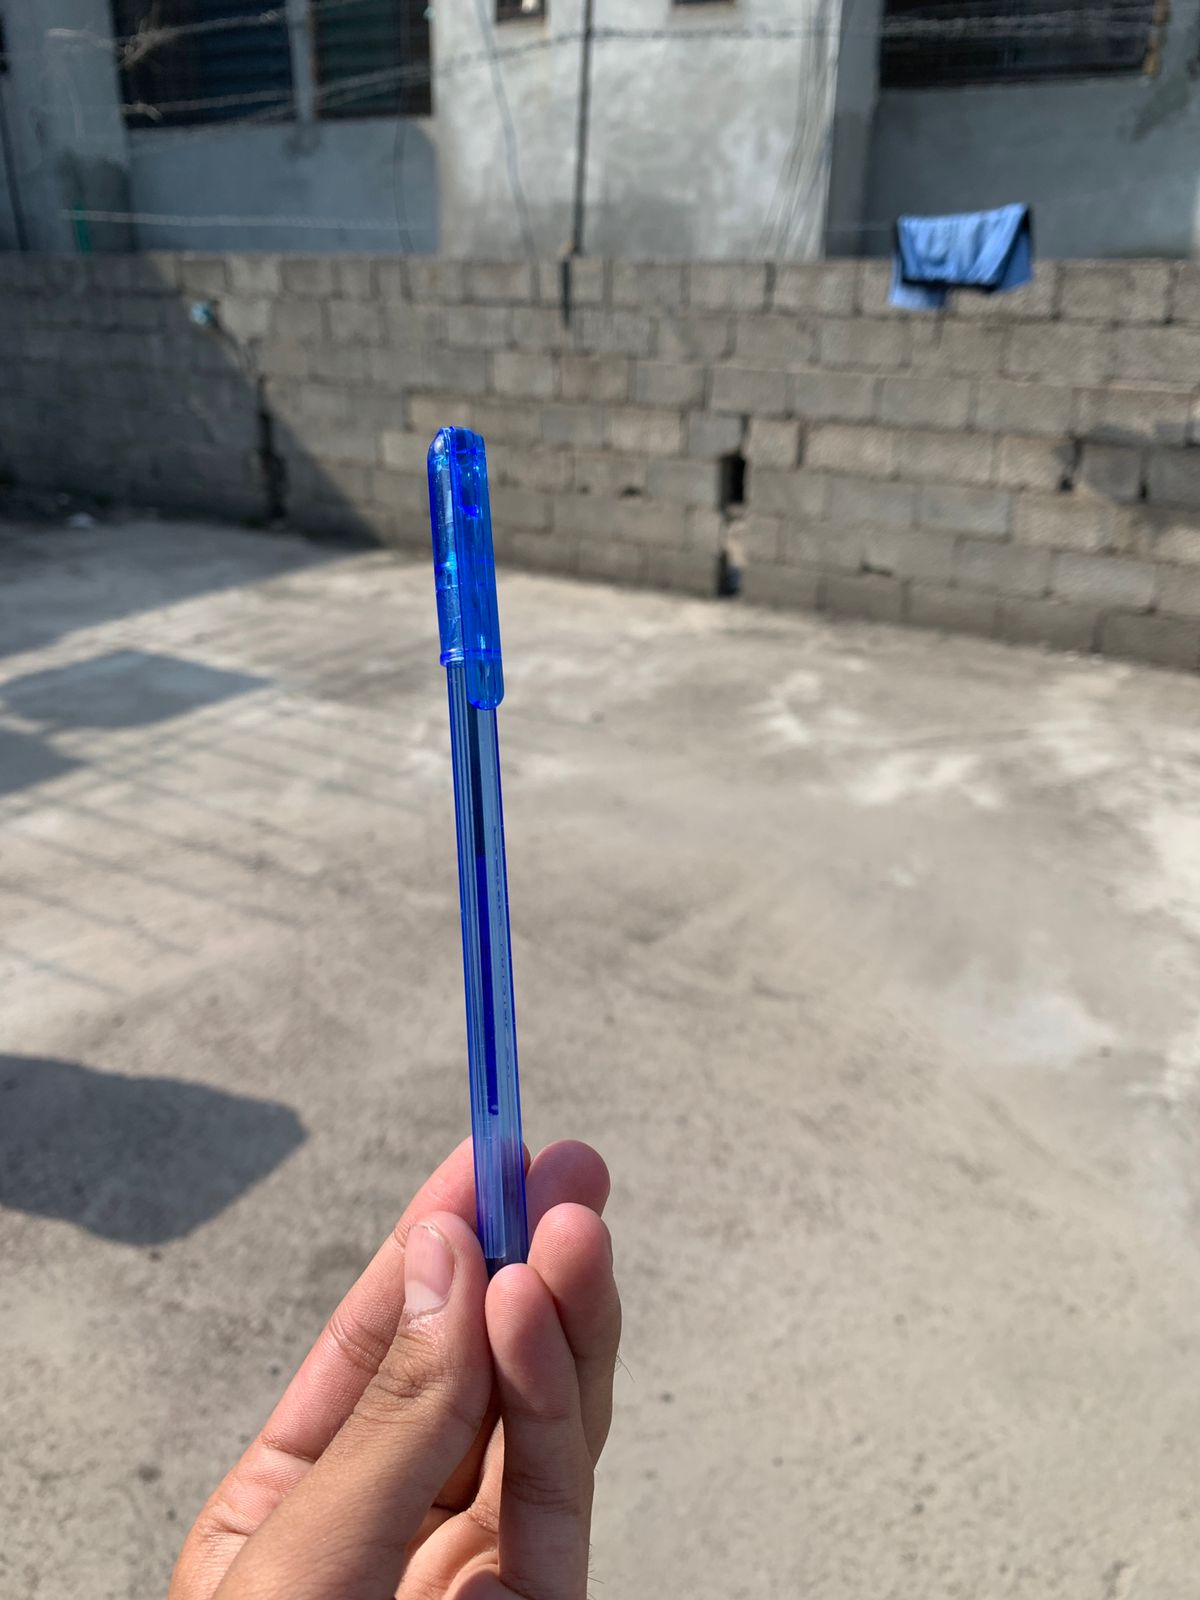pen: (311, 367, 689, 1348)
